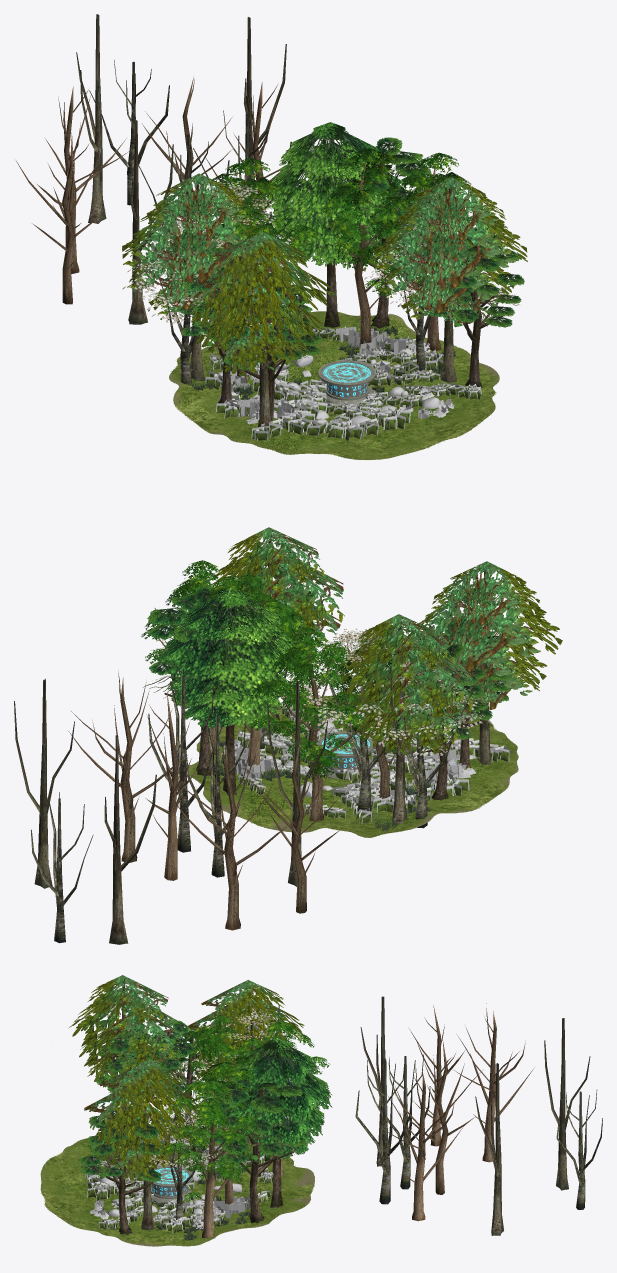
Rendered from SC_BoHeXianSheng.fbx.
3 views of the same model, one above another, from view 1: azimuth 30°, elevation 25°; view 2: azimuth 150°, elevation 25°; view 3: azimuth 270°, elevation 25° (orthographic). The views are drawn at different scales.
Parts seen in each view (by area): view 1: bb18_t, b14_t, ground, bb16_t, bushe2, bb16_mu1, bb18_mu1, b14_mu, bb21_t, bb21_mu1, bb18_mu, desk02 (+6 smaller); view 2: bb18_t, b14_t, bb16_t, ground, bb16_mu1, bushe2, bb18_mu1, bb21_mu1, bb21_t, bb21_mu, bb16_mu, b14_mu (+5 smaller); view 3: bb18_t, b14_t, ground, bb16_t, bb16_mu1, bb21_mu1, bb18_mu1, bushe2, b14_mu, bb16_mu, bb21_t, desk02 (+6 smaller).
Part boxes in pixels (<box>): bb18_t: <box>122,173,527,376</box>; b14_t: <box>176,122,524,370</box>; ground: <box>169,311,499,459</box>; bb16_t: <box>204,148,507,312</box>; bushe2: <box>205,326,481,441</box>; bb16_mu1: <box>16,77,281,304</box>; bb18_mu1: <box>76,14,286,324</box>; b14_mu: <box>201,138,503,421</box>; bb21_t: <box>122,180,467,323</box>; bb21_mu1: <box>89,59,291,241</box>; bb18_mu: <box>168,184,456,427</box>; desk02: <box>318,360,375,405</box>; bb18_t: <box>209,527,562,755</box>; b14_t: <box>143,567,511,748</box>; bb16_t: <box>141,560,433,780</box>; ground: <box>188,695,518,837</box>; bb16_mu1: <box>68,670,340,930</box>; bushe2: <box>220,704,510,823</box>; bb18_mu1: <box>14,678,327,944</box>; bb21_mu1: <box>30,668,255,943</box>; bb21_t: <box>247,605,491,762</box>; bb21_mu: <box>256,609,471,828</box>; bb16_mu: <box>150,574,396,821</box>; b14_mu: <box>164,612,487,800</box>; bb18_t: <box>69,975,304,1180</box>; b14_t: <box>78,1020,332,1184</box>; ground: <box>40,1126,314,1246</box>; bb16_t: <box>162,1015,331,1201</box>; bb16_mu1: <box>383,1003,533,1221</box>; bb21_mu1: <box>355,1054,602,1209</box>; bb18_mu1: <box>360,996,590,1235</box>; bushe2: <box>82,1133,273,1233</box>; b14_mu: <box>89,1036,294,1234</box>; bb16_mu: <box>177,1023,312,1238</box>; bb21_t: <box>140,1008,315,1172</box>; desk02: <box>151,1165,192,1203</box>.
Bounding box in the file's own units: 2503 × 1446 × 4250.
